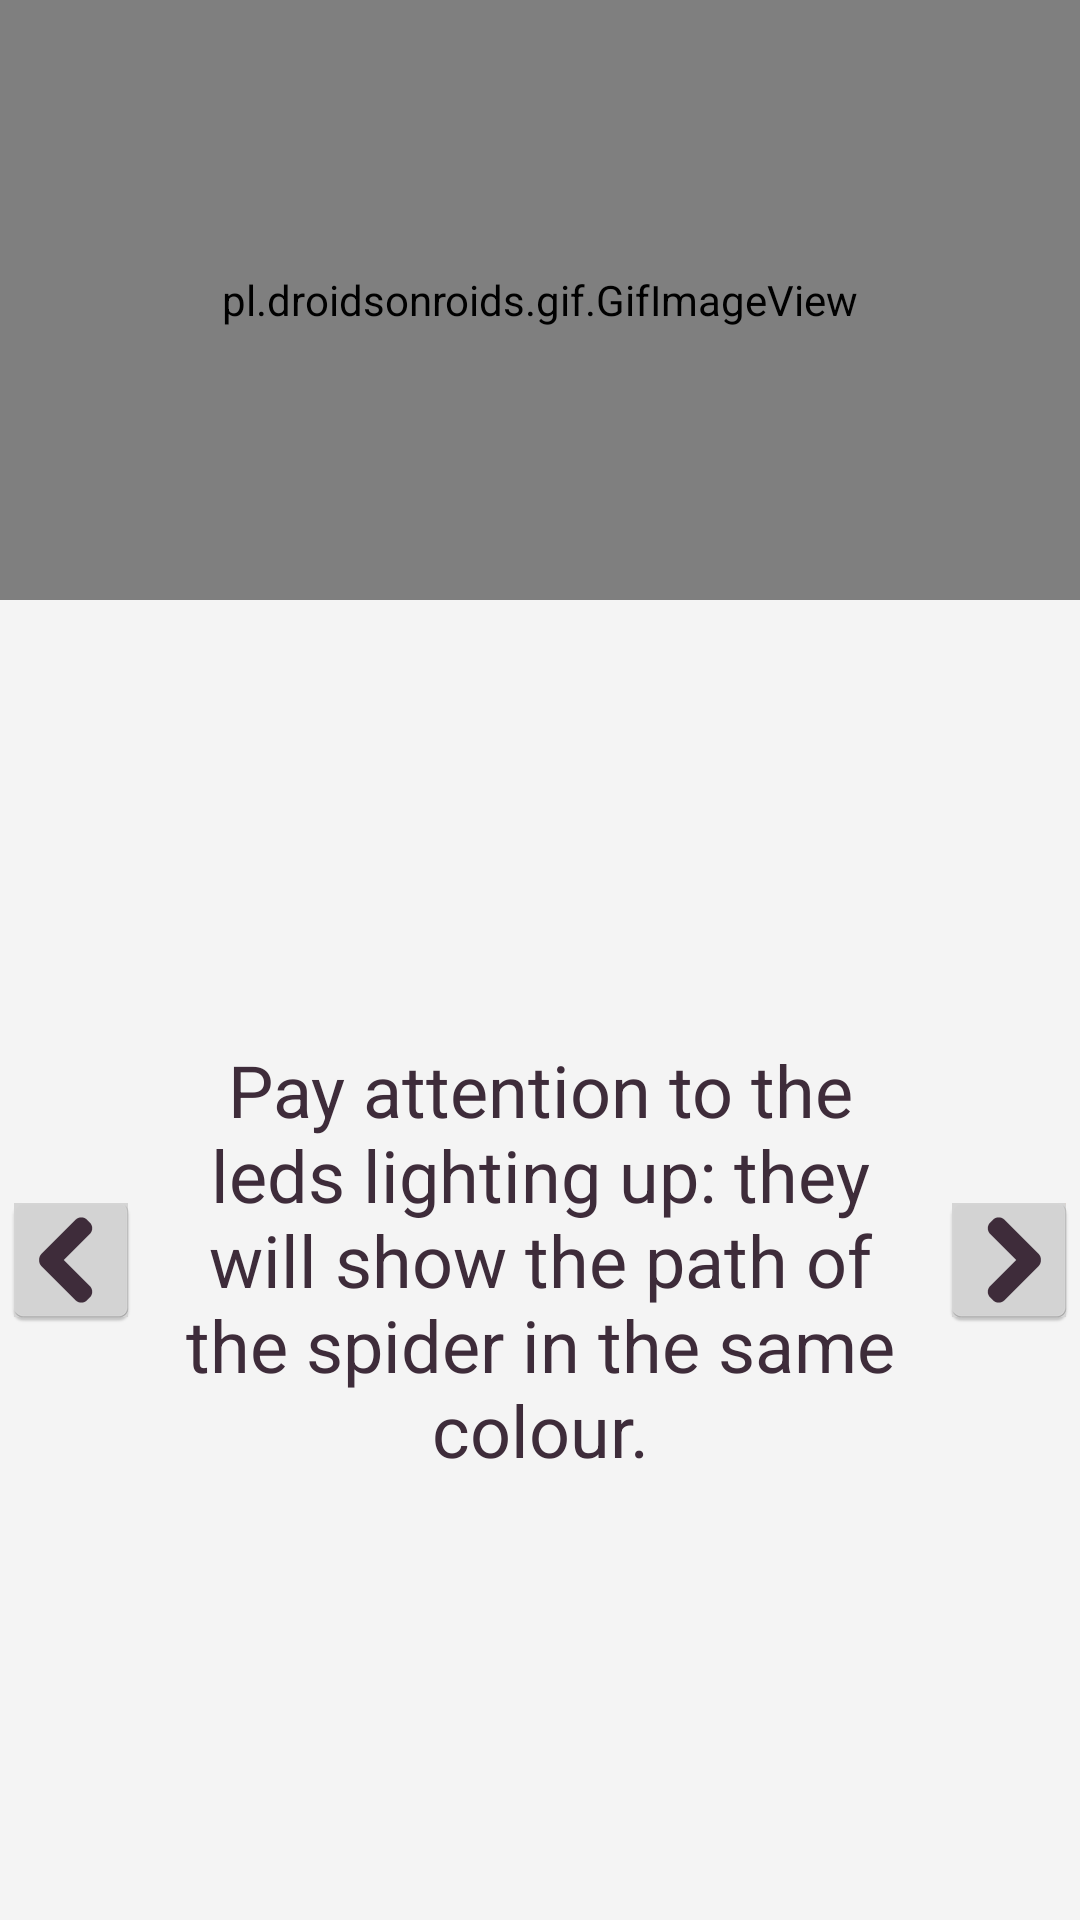

Icon bounding boxes for this 1080w x 1920h phone screenshot, format bbox(x1, y1, x2, y2):
avanti: bbox(952, 1203, 1067, 1321)
indietro: bbox(14, 1203, 129, 1321)
